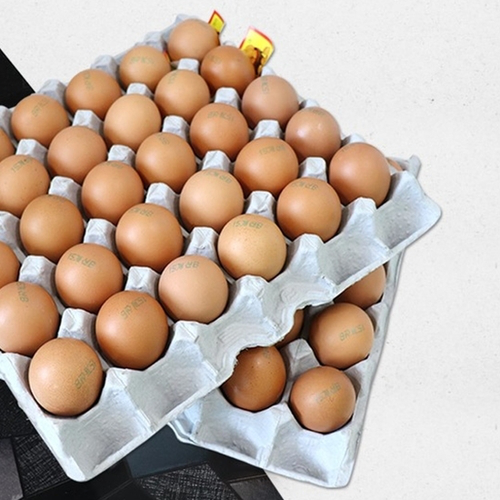egg: (1, 19, 395, 417), (216, 258, 389, 438)
